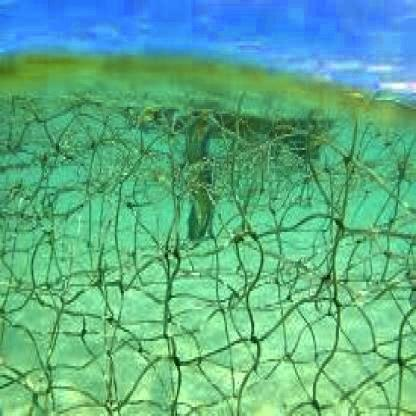net: (1, 107, 413, 416)
